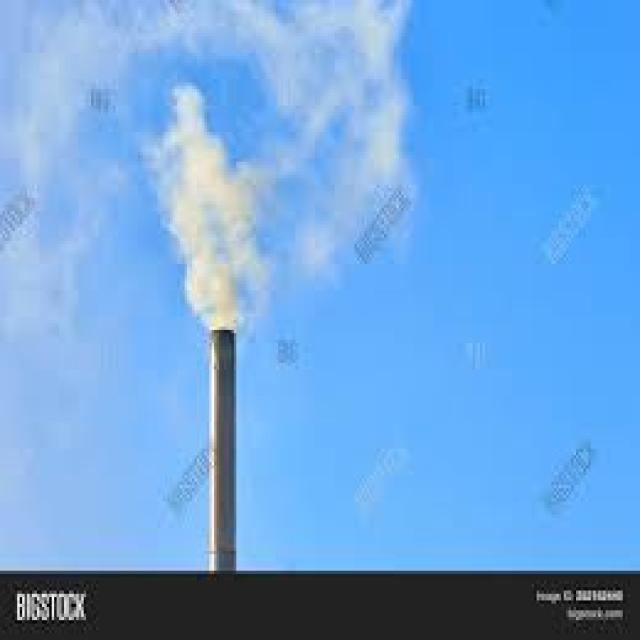Smoke: (0, 0, 422, 330)
